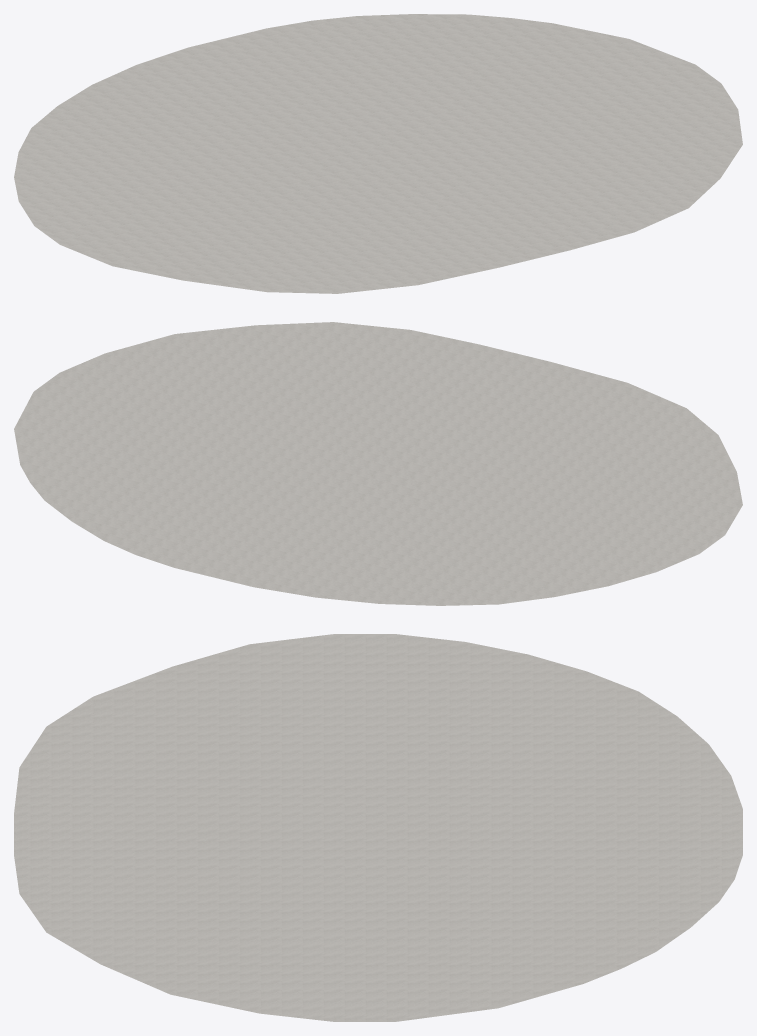
The model's file is CurbV4.gltf.
3 views of the same model, one above another, from view 1: azimuth 30°, elevation 25°; view 2: azimuth 150°, elevation 25°; view 3: azimuth 270°, elevation 25° (orthographic). The views are drawn at different scales.
Parts seen in each view (by area): view 1: Plane; view 2: Plane; view 3: Plane.
Part boxes in pixels (x1=…): Plane: x1=14, y1=14, x2=742, y2=293; Plane: x1=14, y1=322, x2=742, y2=605; Plane: x1=14, y1=634, x2=742, y2=1021.
Size of the model in its own units: 29.75 by 8.09e-07 by 23.63.
Materials: 1 (1 with a texture image).
